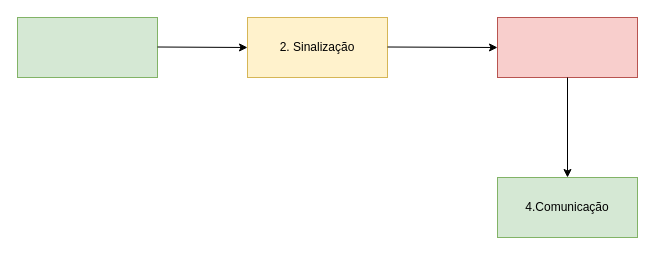
Some shapes in this 655 by 255 pixel diagram are drawn without their labels. Each missing label, with the box of its shape:
1. Media APIs: (16, 16, 158, 78)
3.Conexão: (496, 16, 638, 78)
